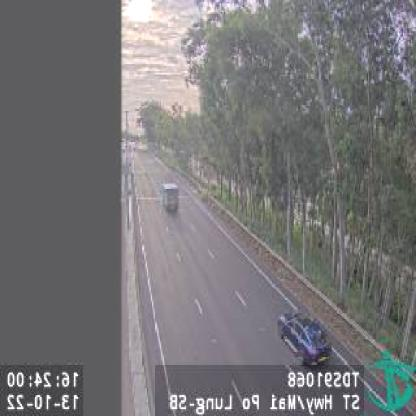Car: (276, 310, 332, 368)
Truck: (162, 182, 179, 214)
